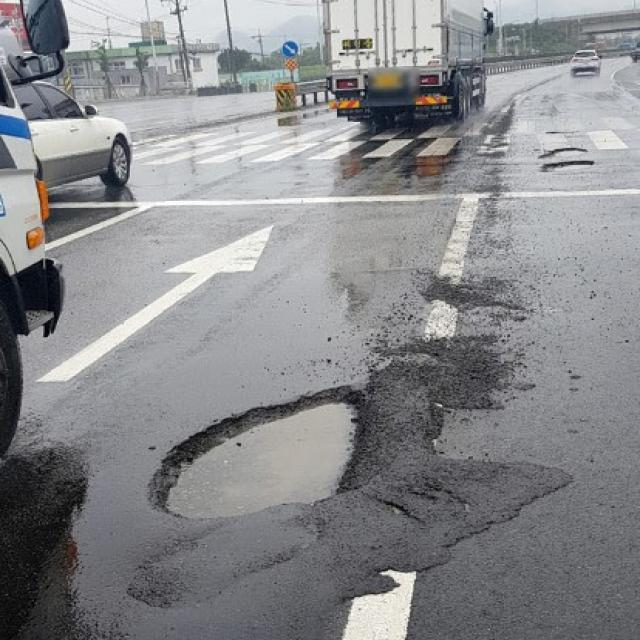pothole: (125, 366, 375, 524), (540, 156, 605, 181), (529, 142, 590, 159)
